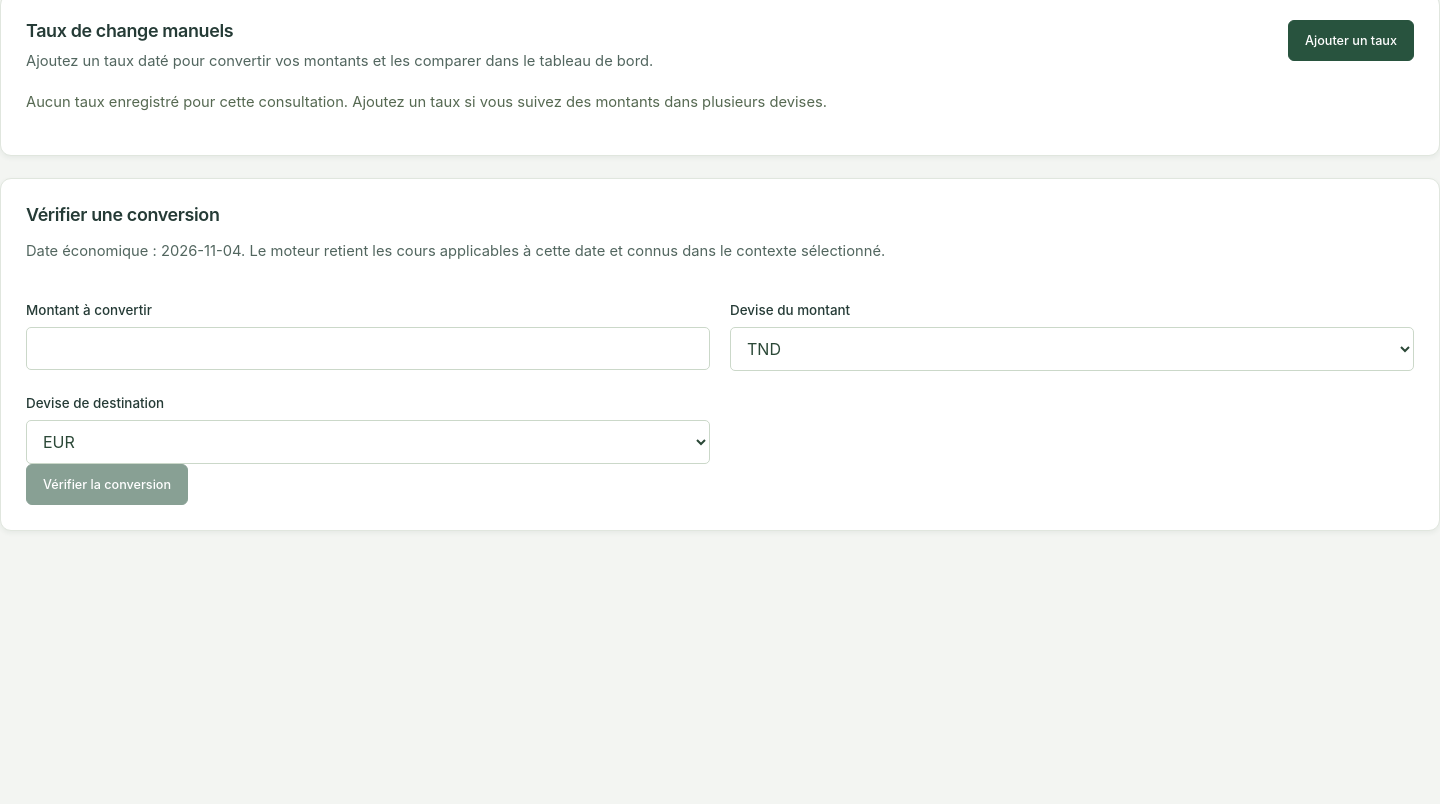
it: Taux manuels et conversions locales › affiche le résultat Rust avec la date, la source, la révision et l’ancienneté des cours
Type "10" into the field labelled "Montant à convertir" at (368, 349), box [26,328,710,370]
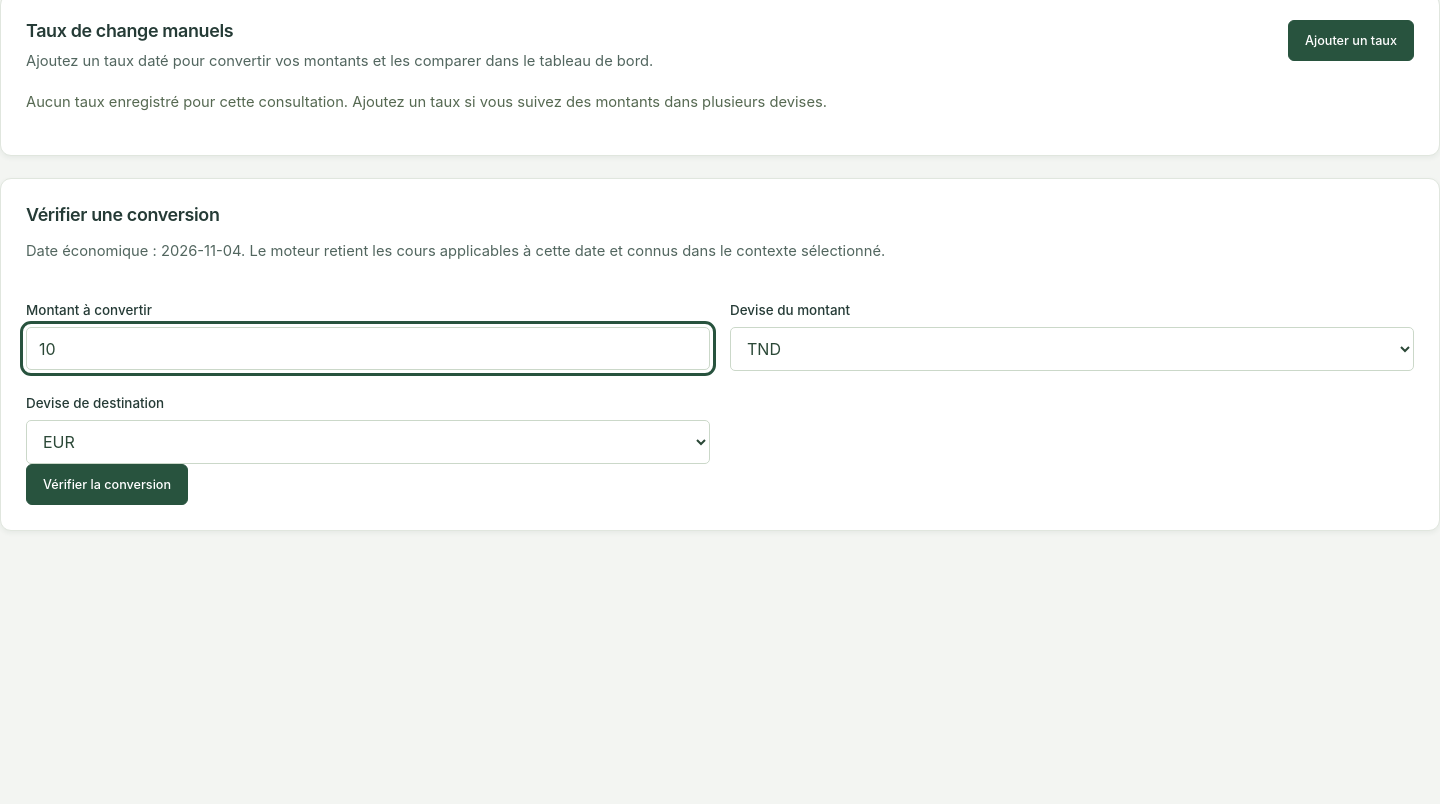
Click the button "Vérifier la conversion" at (107, 485), box [26,464,188,506]
(page scrolled)
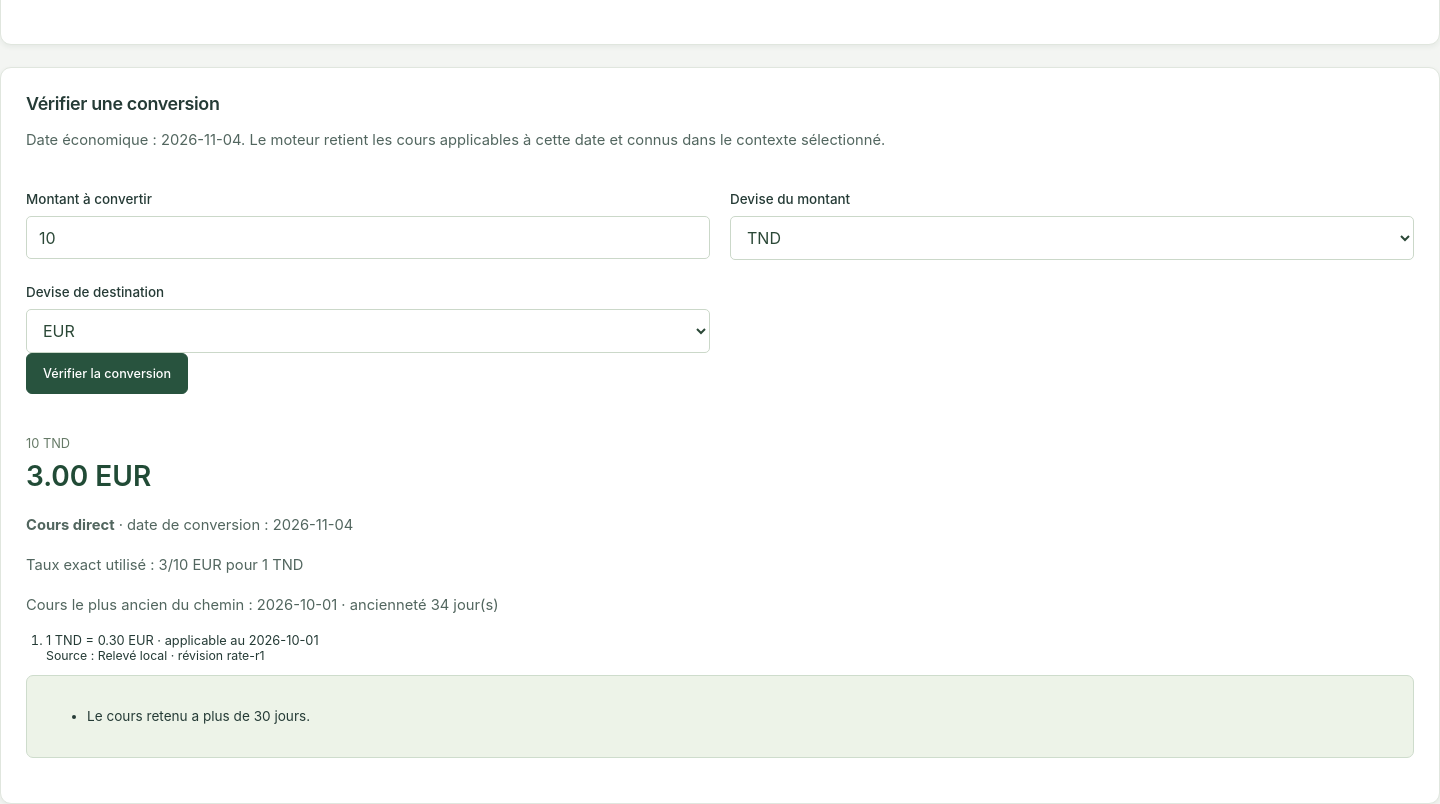
Check: the text "3.00 EUR" is shown, box [26,460,151,494]
Check: the text "ancienneté 34 jour" is shown, box [337,596,498,614]
Check: the text "Source : Relevé local · révision rate-r1" is shown, box [46,648,265,663]
